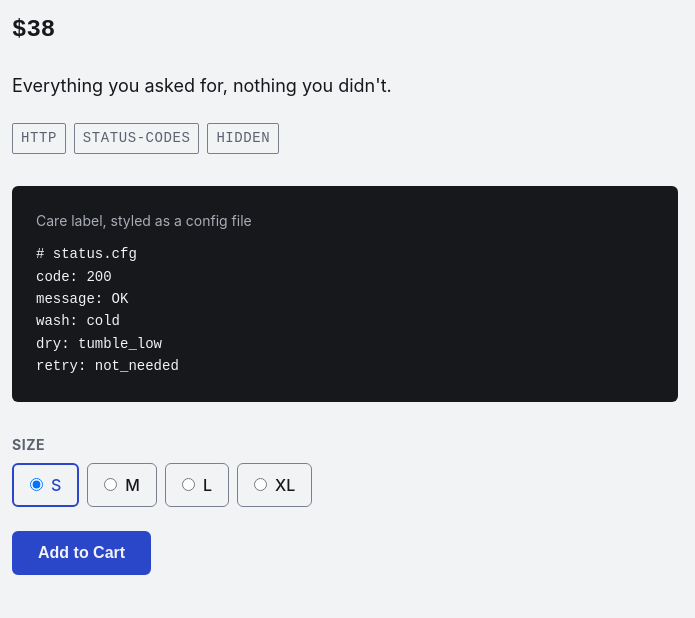
Test: ProductPage — hidden 13th product (board task E6) › lets Add to Cart work normally on the hidden product once unlocked
The image size is (695, 618).
Click the button "Add to Cart".
click(82, 552)  # box [12,530,151,574]
(page scrolled)
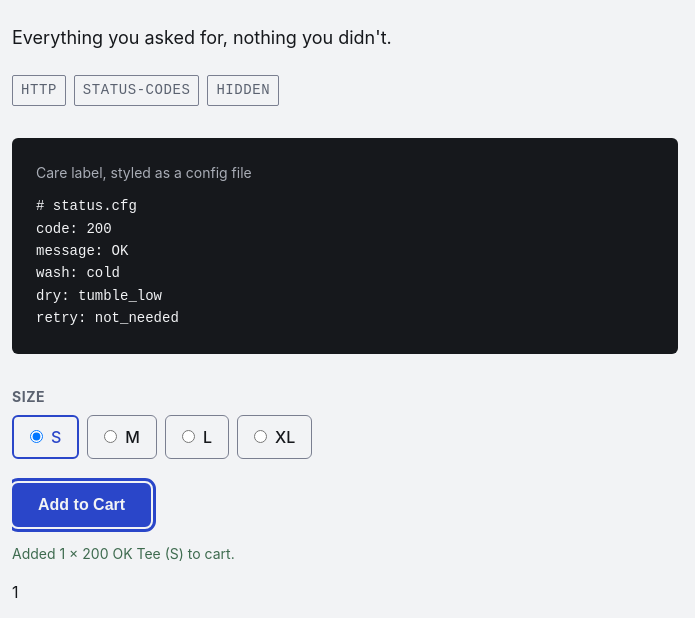
Now the text with test id "probe-quantity" reads "1", box [12,582,18,602]
